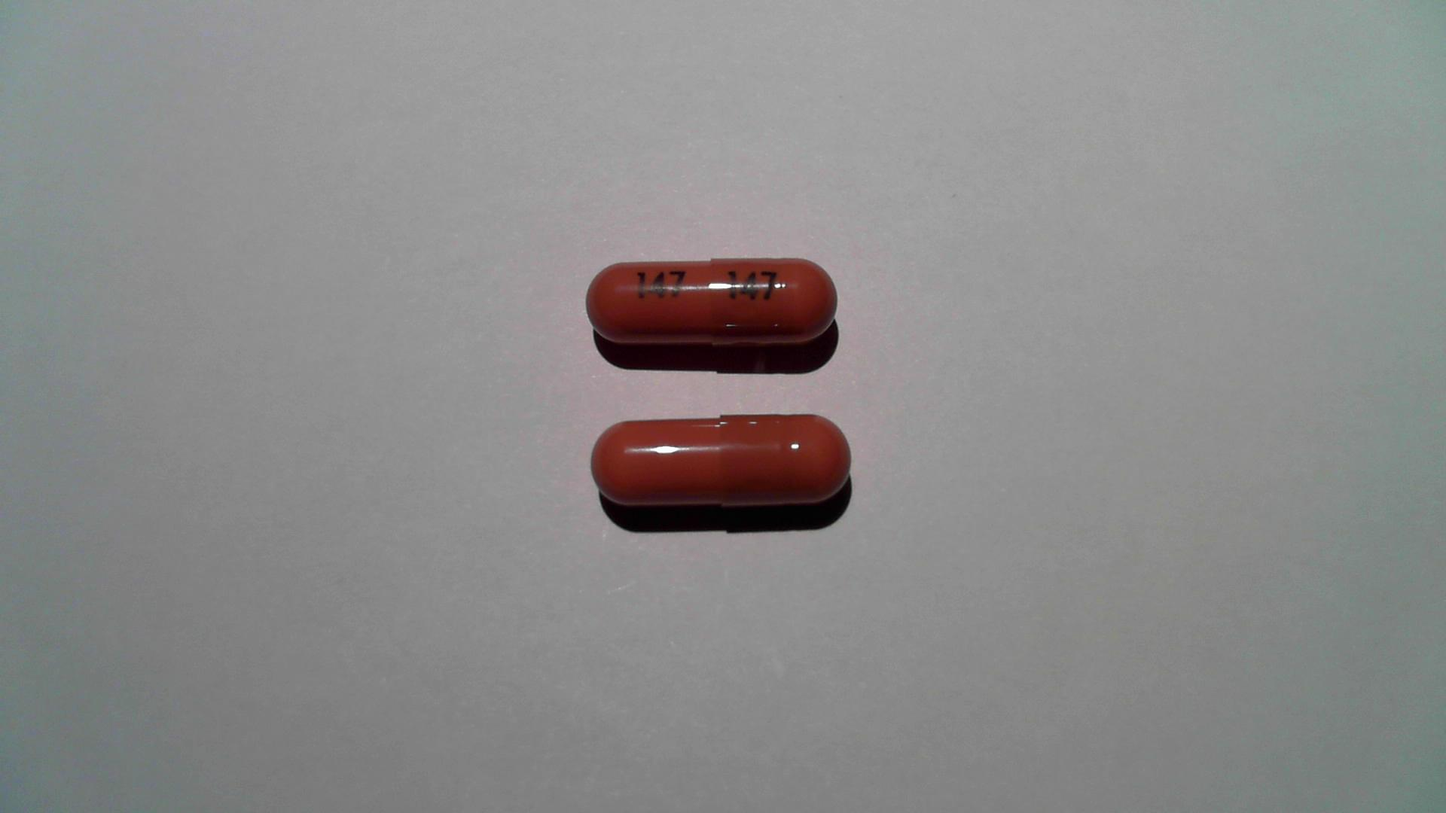Pill: (586, 408, 856, 516), (584, 251, 842, 352)
